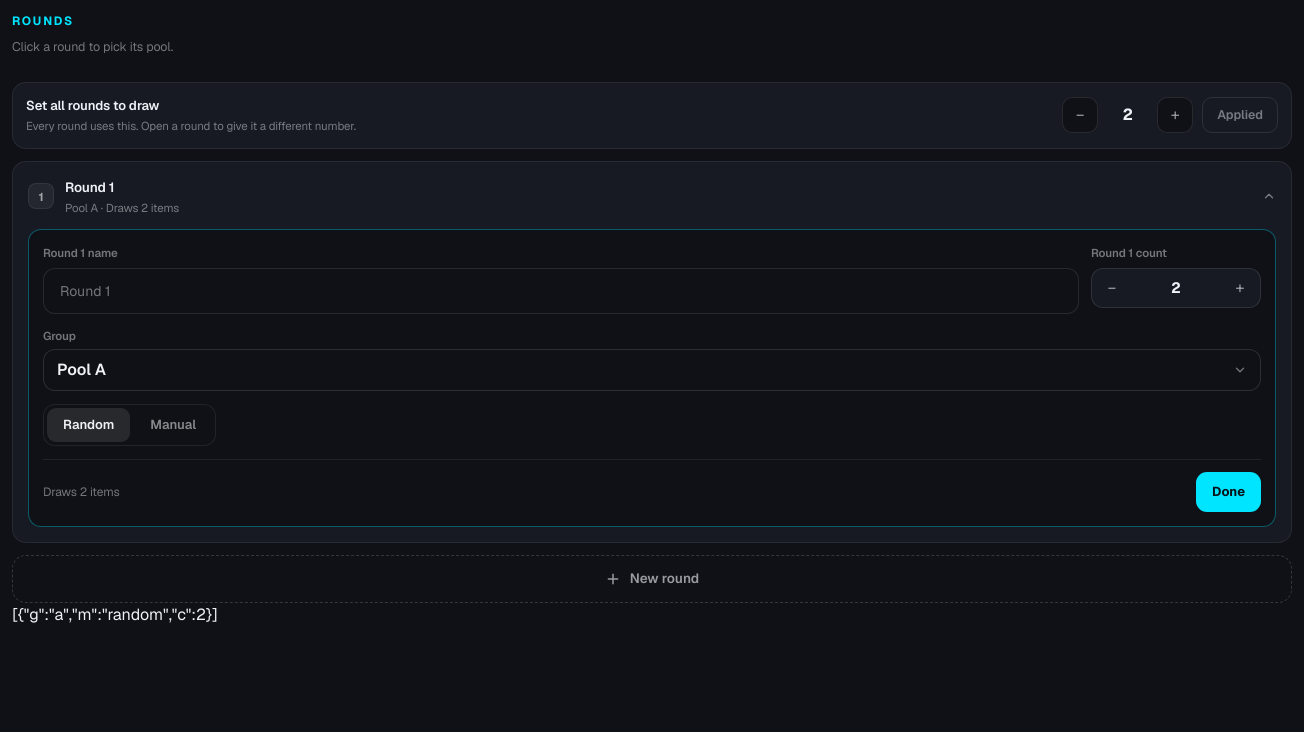
it: RoundsEditor › shows a soft under-fill hint when the configured count exceeds what's left
The width and height of the screenshot is (1304, 732).
Replace the text in the number field named "Round 1 count" with "5": x=1176, y=288 [1135,277,1217,300]
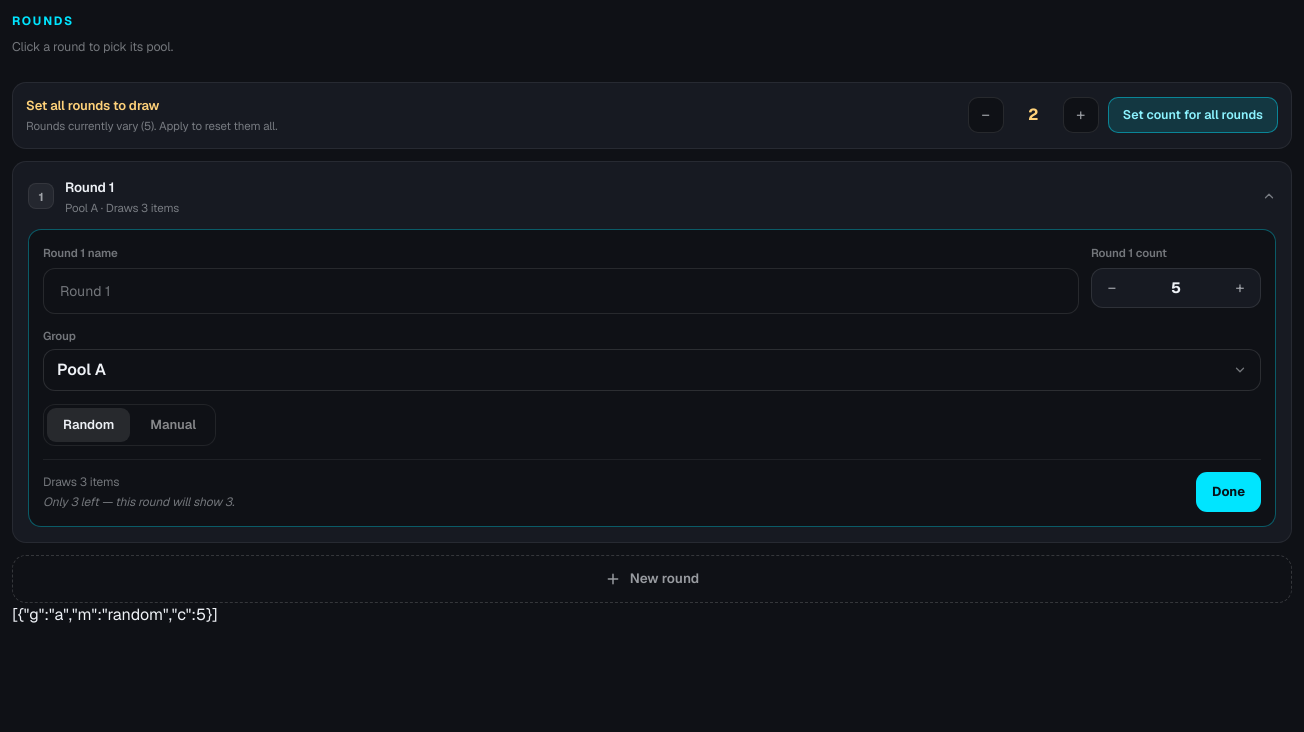
Check: the text "Draws 3 items" is shown, box [43,474,120,490]
Check: the text "Only 3 left — this round will show 3." is shown, box [43,494,234,510]
